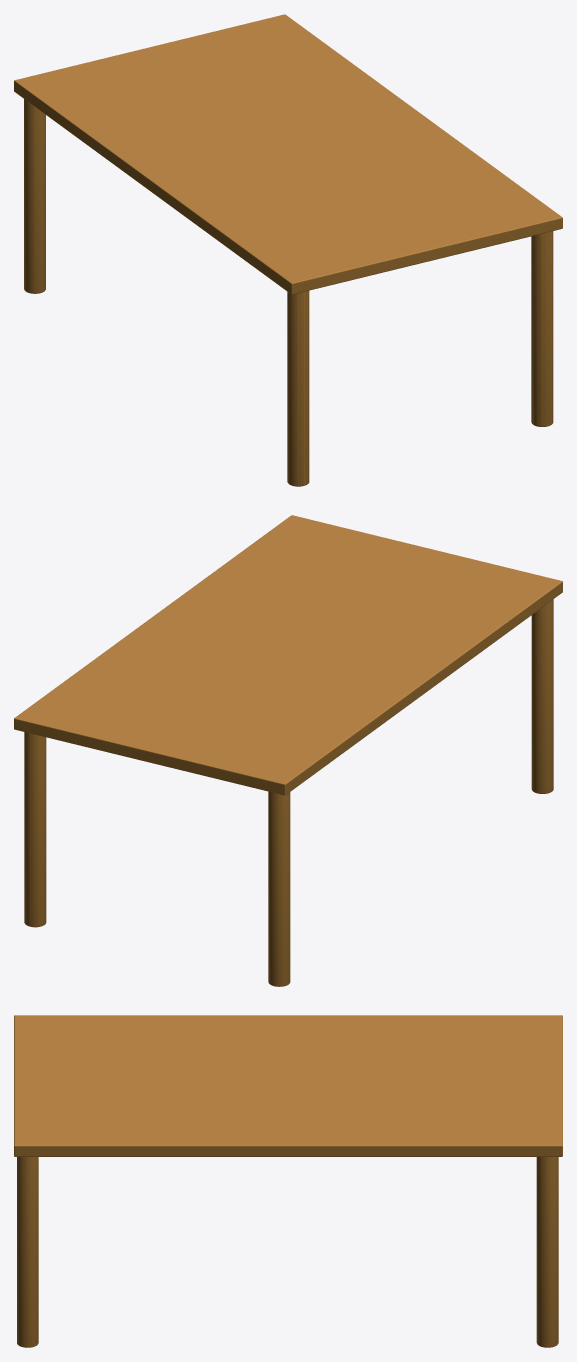
File: TableV1.fbx
The picture shows the model from 3 angles, top to bottom: view 1: azimuth 30°, elevation 25°; view 2: azimuth 150°, elevation 25°; view 3: azimuth 270°, elevation 25°; orthographic projection.
Visible parts, largest first — view 1: Table; view 2: Table; view 3: Table.
Boxes of the visible parts, <box> form: Table: <box>14,14,562,486</box>; Table: <box>14,515,562,986</box>; Table: <box>14,1015,562,1347</box>.
Bounding box in the file's own units: 1781 × 1005 × 732.
